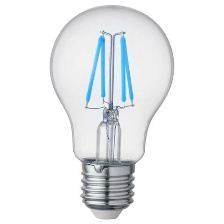light_bulb: (46, 2, 177, 224)
